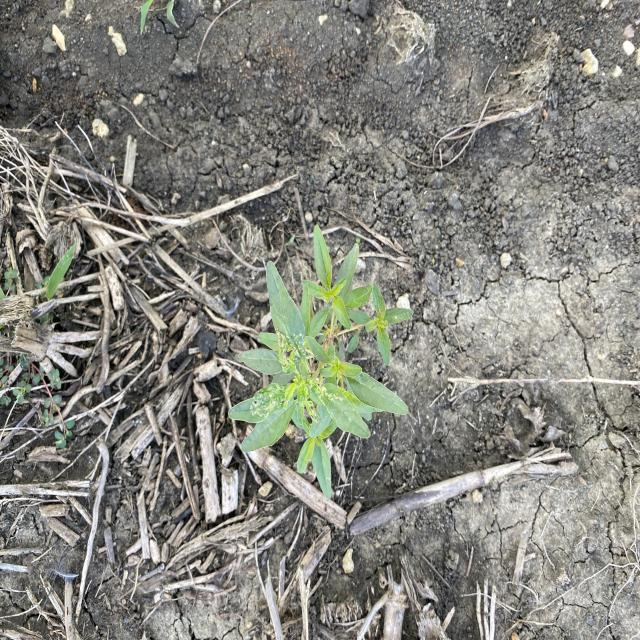SpottedSpurge: (0, 266, 77, 454)
Waterhemp: (226, 220, 417, 504)
